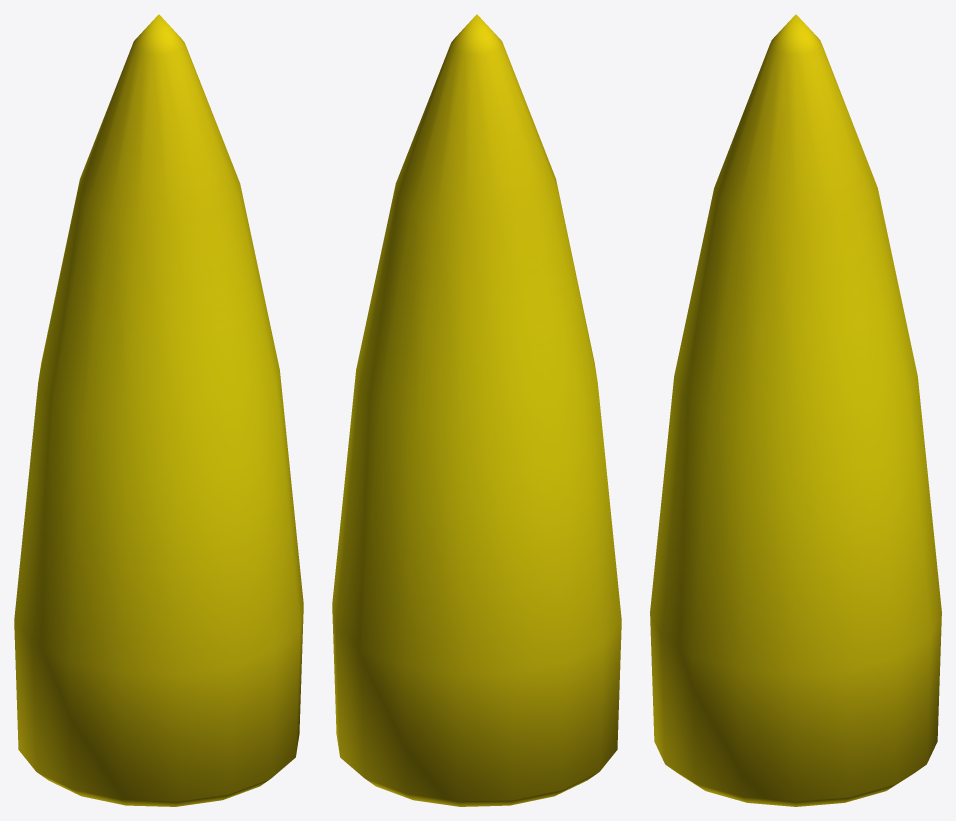
File: ostry.fbx
3 views of the same model, side by side, from view 1: azimuth 30°, elevation 25°; view 2: azimuth 150°, elevation 25°; view 3: azimuth 270°, elevation 25° (orthographic).
Visible parts, largest first — view 1: ostry; view 2: ostry; view 3: ostry.
Part boxes in pixels (x1=…): ostry: x1=14, y1=14, x2=303, y2=806; ostry: x1=332, y1=14, x2=621, y2=806; ostry: x1=650, y1=14, x2=941, y2=806.
Bounding box in the file's own units: 17.69 × 49.41 × 17.69.
1 material, 1 textured.
